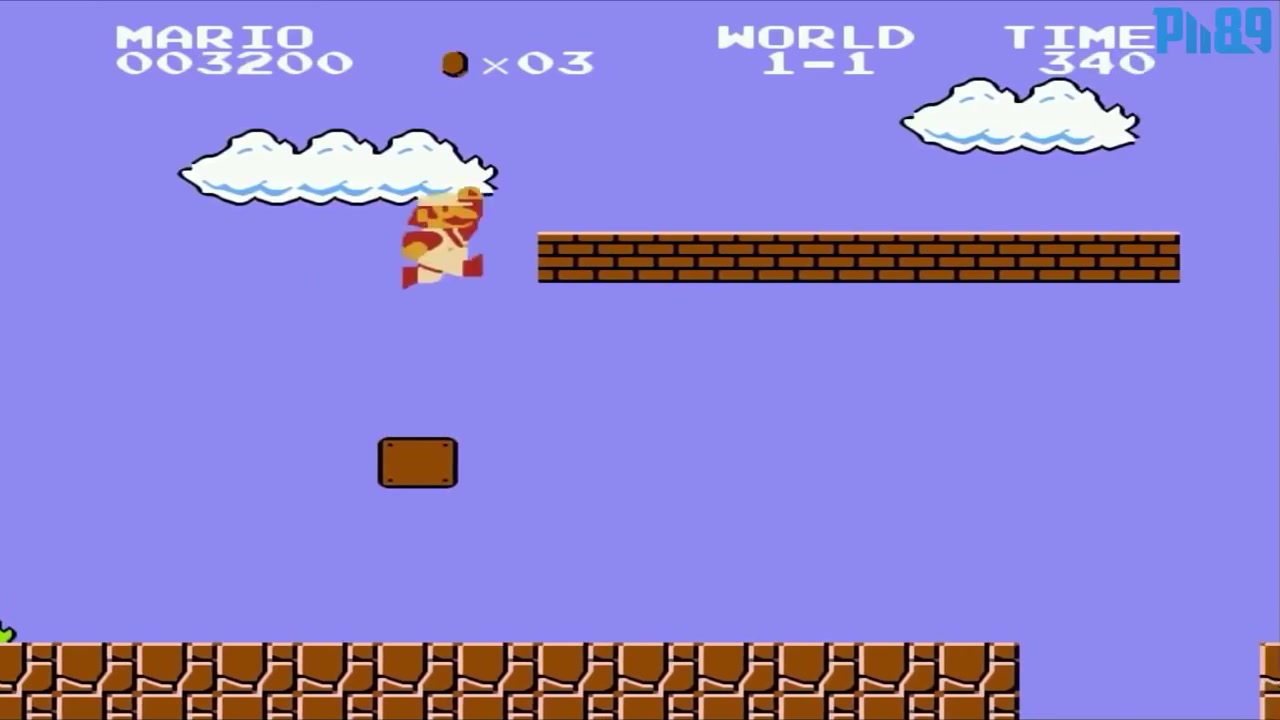mario: (406, 185, 484, 298)
